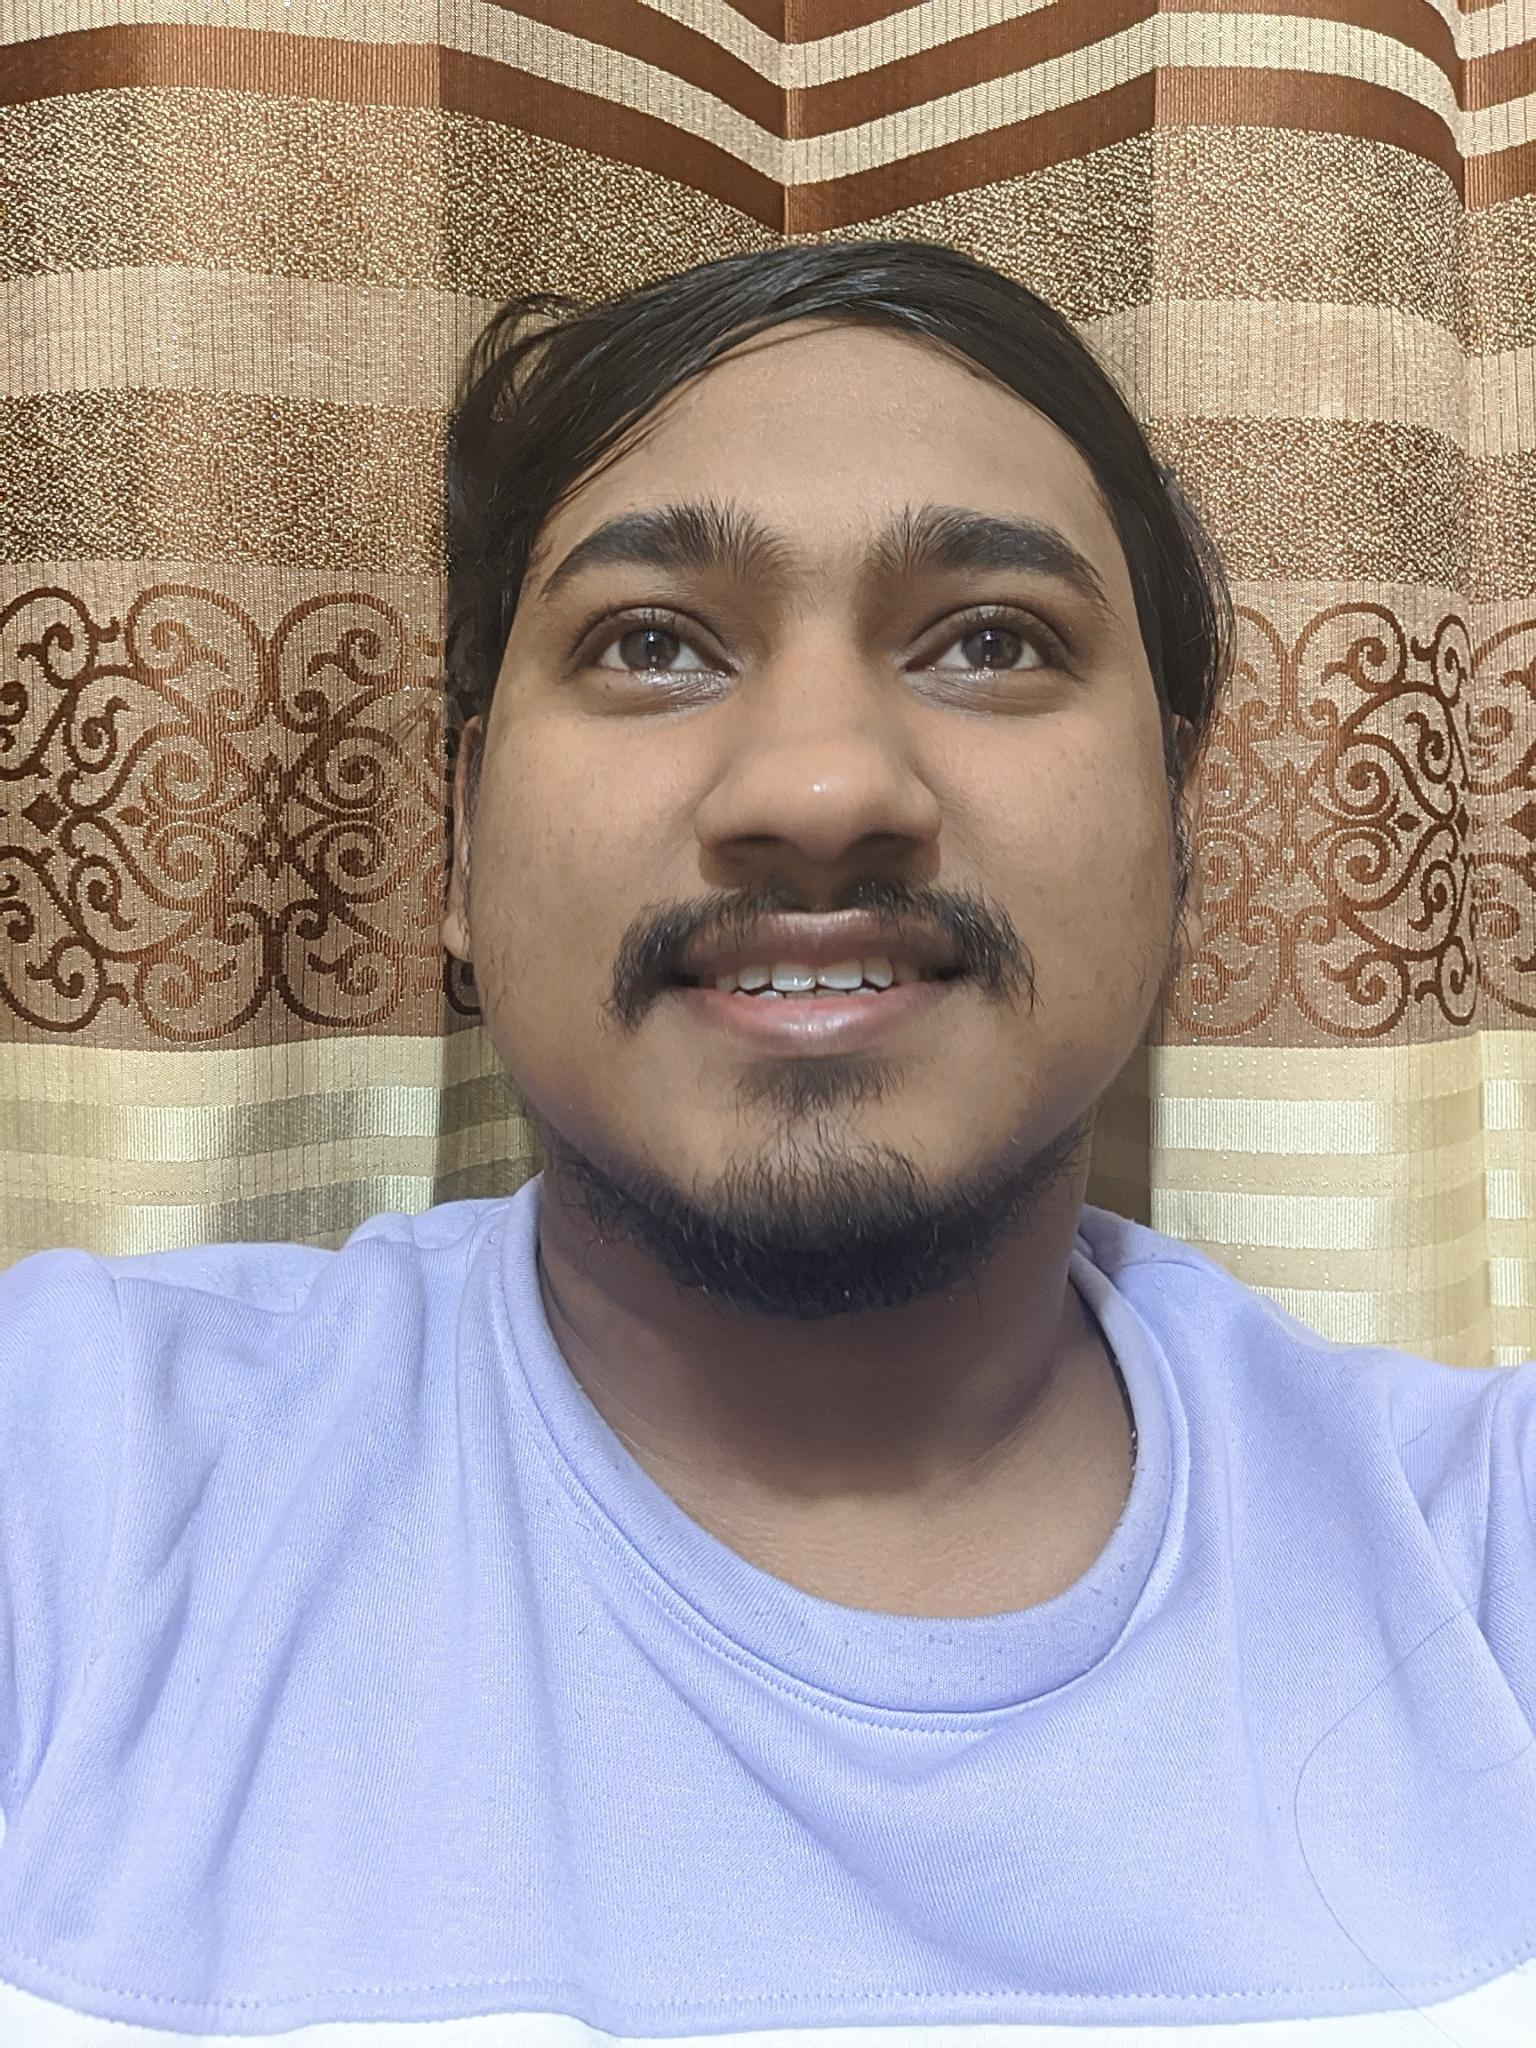Happy: (503, 443, 1144, 1255)
